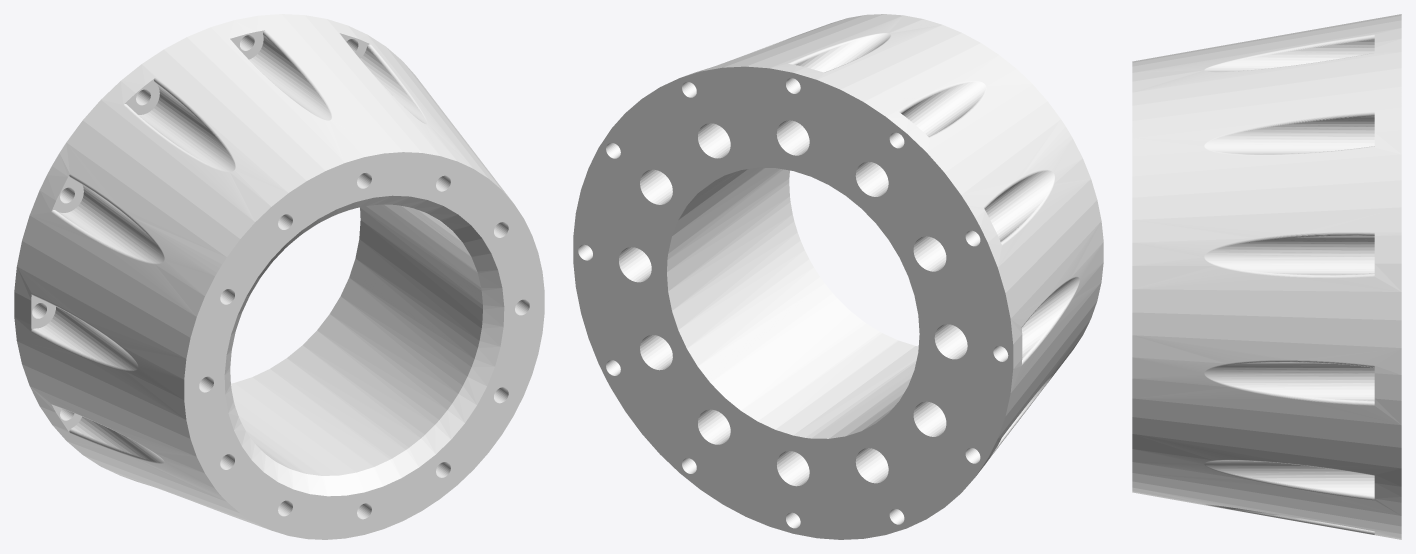
The picture shows the model from 3 angles, left to right: view 1: azimuth 30°, elevation 25°; view 2: azimuth 150°, elevation 25°; view 3: azimuth 270°, elevation 25°; orthographic projection. The views are drawn at different scales.
Visible parts, largest first — view 1: link0; view 2: link0; view 3: link0.
Boxes of the visible parts, x1=… form: link0: x1=14, y1=14, x2=544, y2=539; link0: x1=573, y1=14, x2=1103, y2=539; link0: x1=1132, y1=14, x2=1401, y2=539.
Bounding box in the file's own units: 0.0975 × 0.0976 × 0.05.
Materials: 1 (1 with a texture image).
